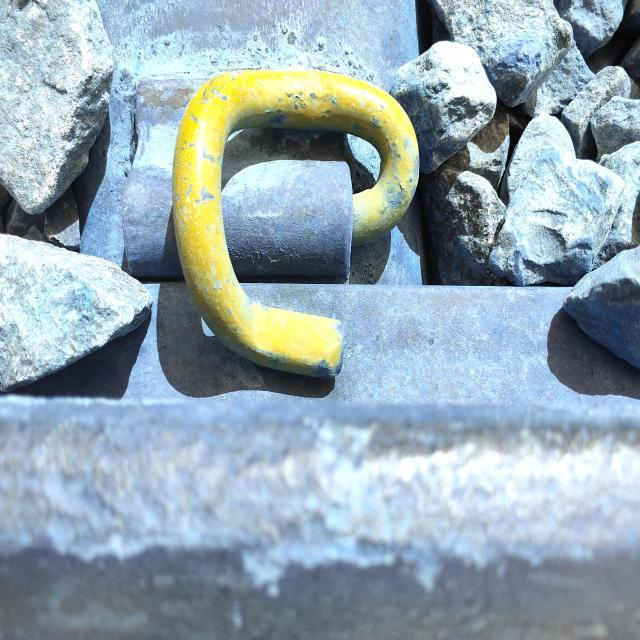Good Fasteners: (111, 54, 431, 395)
